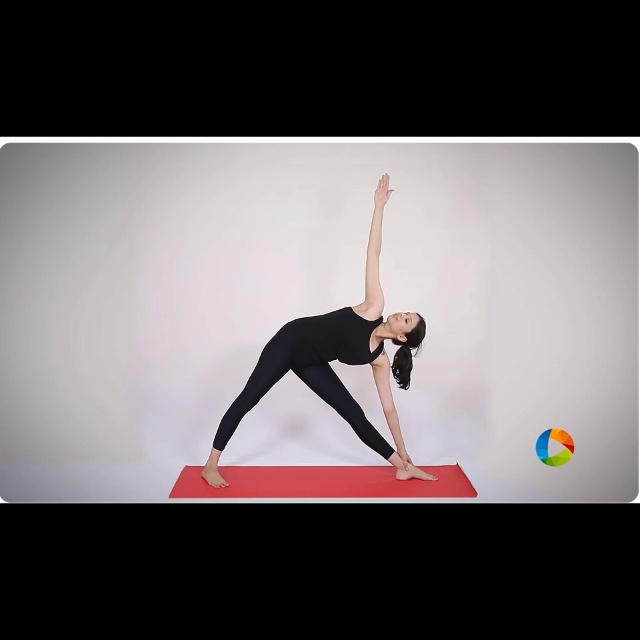Triangle_Pose: (196, 168, 456, 493)
